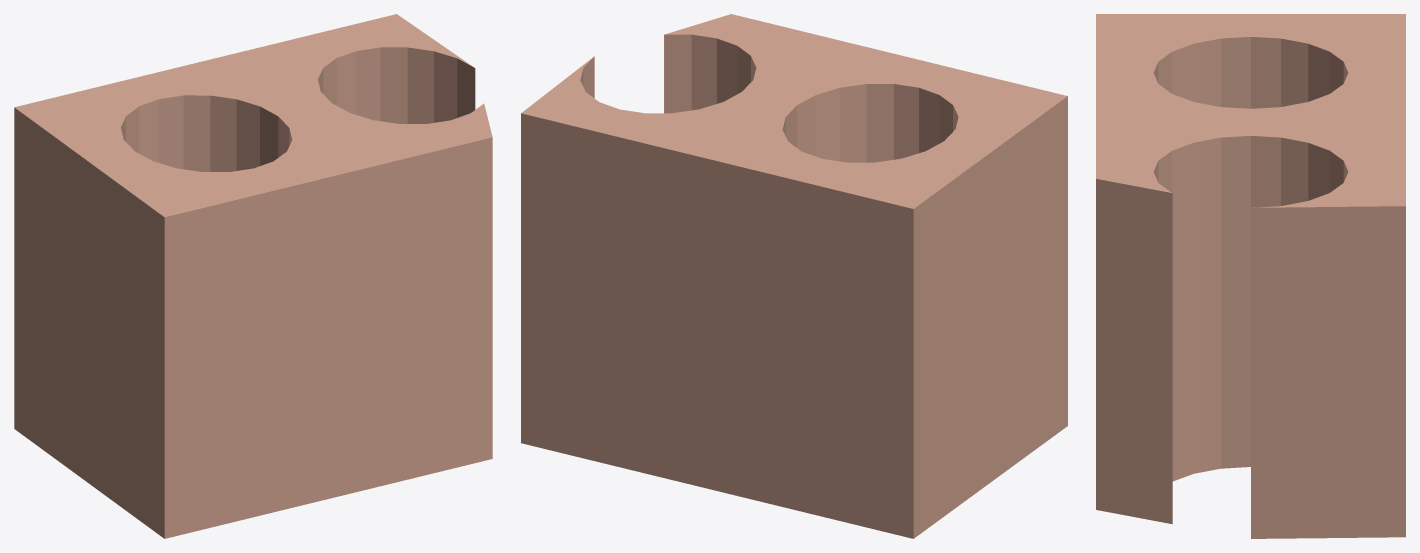
Rendered from Broken Brick.fbx.
3 renders of one model, left to right at view 1: azimuth 30°, elevation 25°; view 2: azimuth 150°, elevation 25°; view 3: azimuth 270°, elevation 25°, orthographic. The views are drawn at different scales.
Visible parts, largest first — view 1: pCube12; view 2: pCube12; view 3: pCube12.
Boxes of the visible parts, bbox=[...] form: pCube12: bbox=[14, 14, 492, 538]; pCube12: bbox=[521, 14, 1067, 538]; pCube12: bbox=[1096, 14, 1405, 538].
Size of the model in its own units: 0.4395 by 0.35 by 0.2967.
